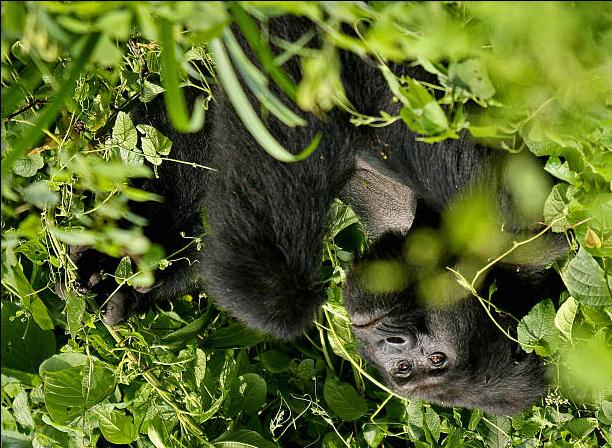goriile_montagne: (109, 61, 563, 429)
